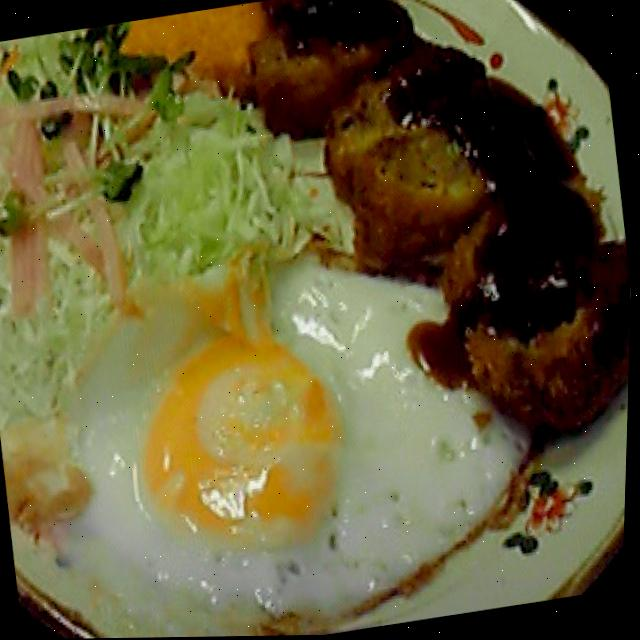鸡蛋料理: (16, 233, 554, 640)
